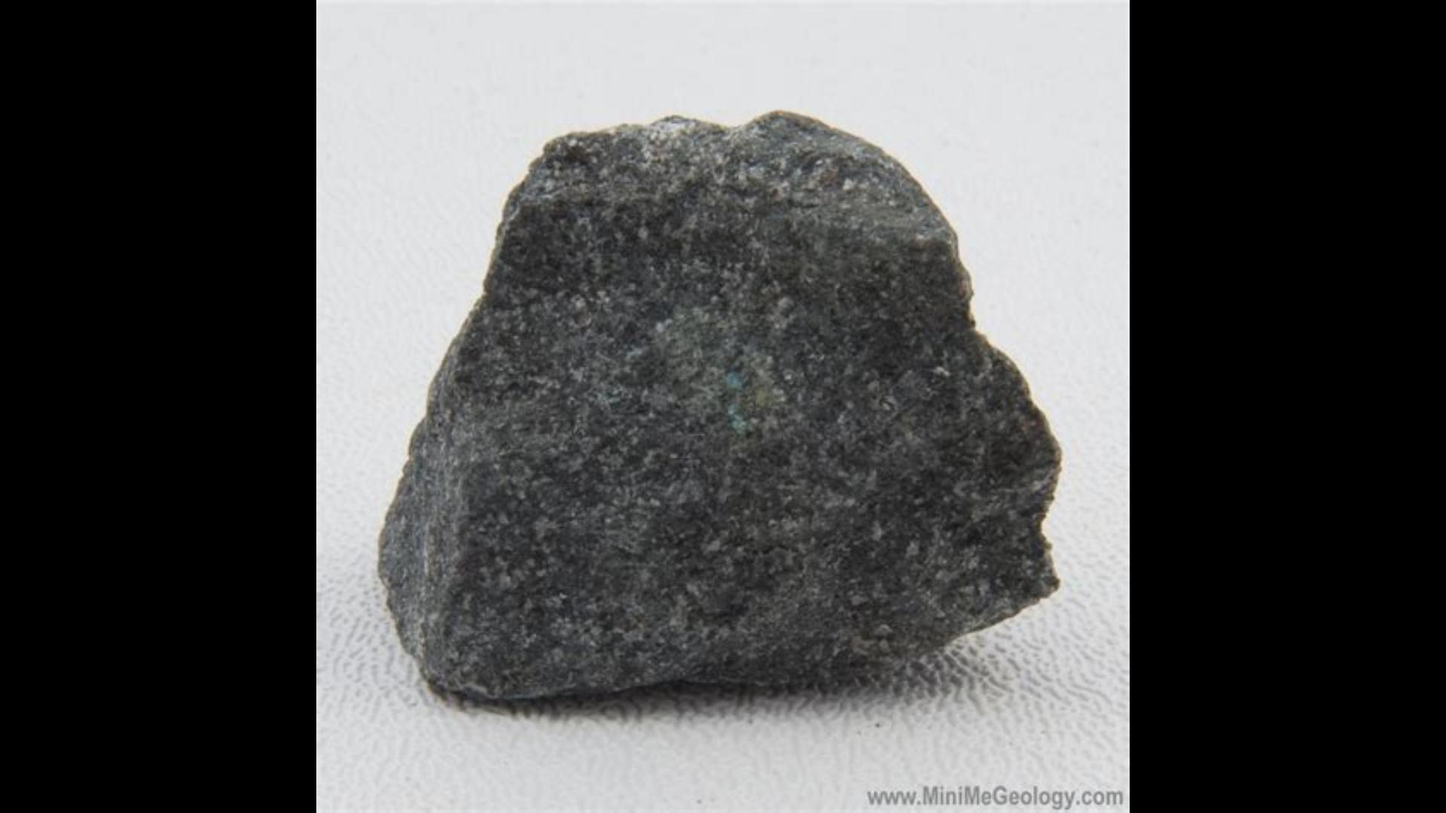rock: (382, 113, 1056, 698)
